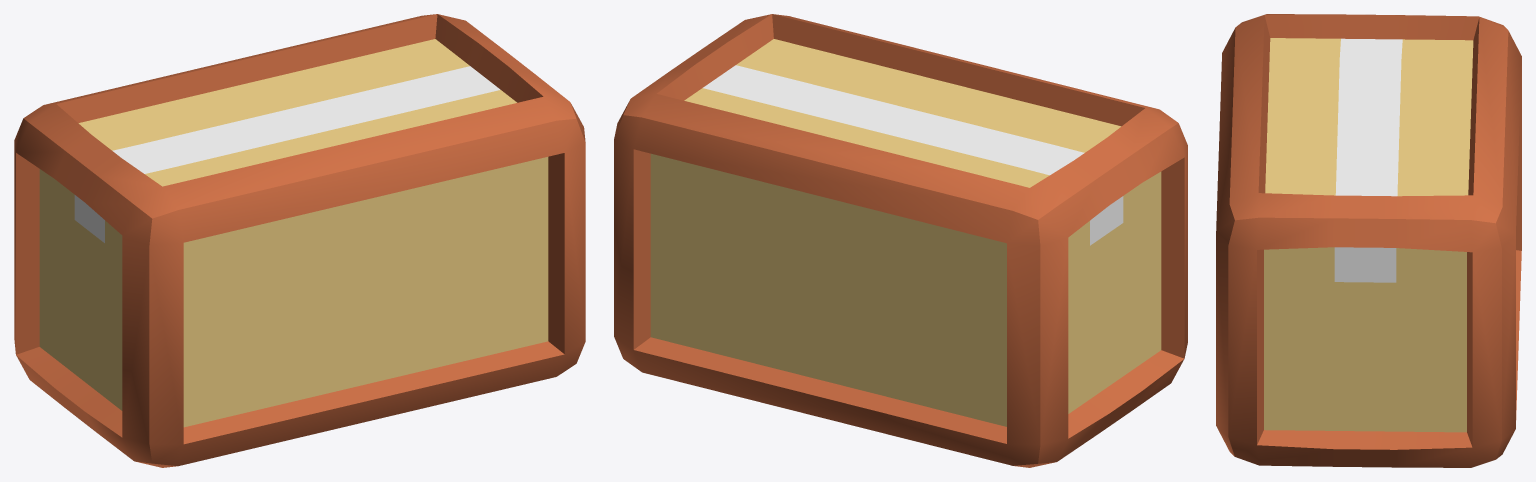
The model's file is Props_Box_Wood_02.fbx.
3 views of the same model, side by side, from view 1: azimuth 30°, elevation 25°; view 2: azimuth 150°, elevation 25°; view 3: azimuth 270°, elevation 25° (orthographic). The views are drawn at different scales.
Visible parts, largest first — view 1: Props_Box_Wood_02; view 2: Props_Box_Wood_02; view 3: Props_Box_Wood_02.
Boxes of the visible parts, x1,y1,x2,y2 form: Props_Box_Wood_02: (14, 14, 585, 467); Props_Box_Wood_02: (614, 14, 1187, 467); Props_Box_Wood_02: (1216, 14, 1521, 467).
Size of the model in its own units: 106 by 61.76 by 62.97.
